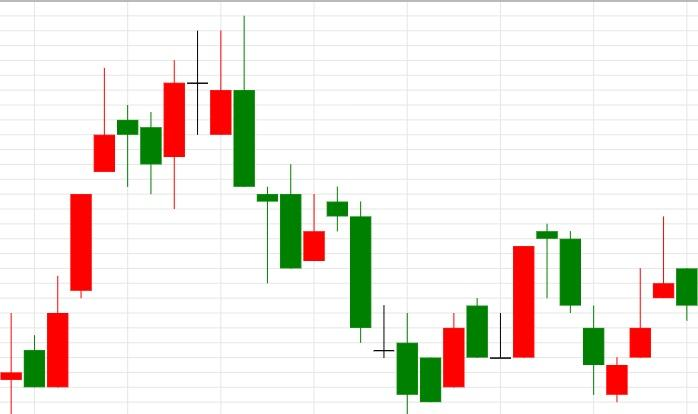evening_star_fall: (444, 224, 581, 388)
